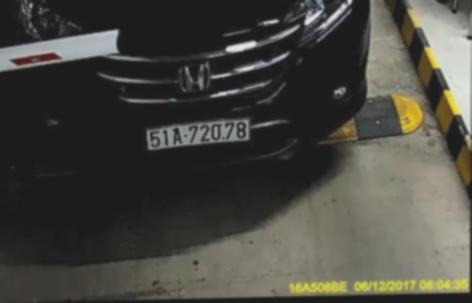License_Plate: (138, 118, 257, 152)
